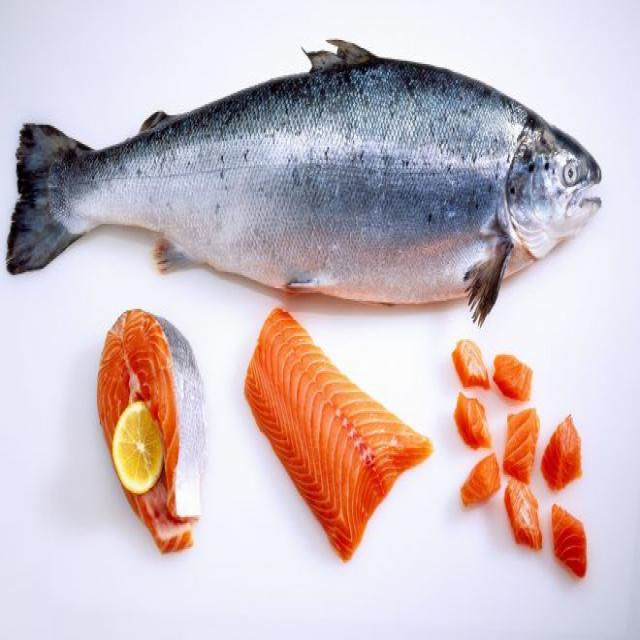salmon: (10, 30, 615, 342)
